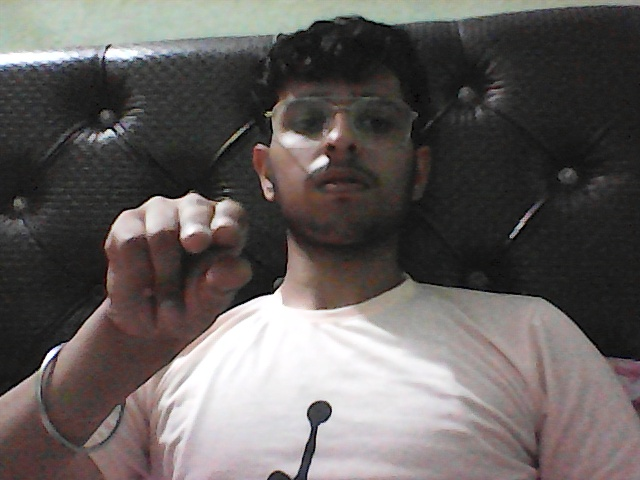no: (74, 176, 261, 355)
